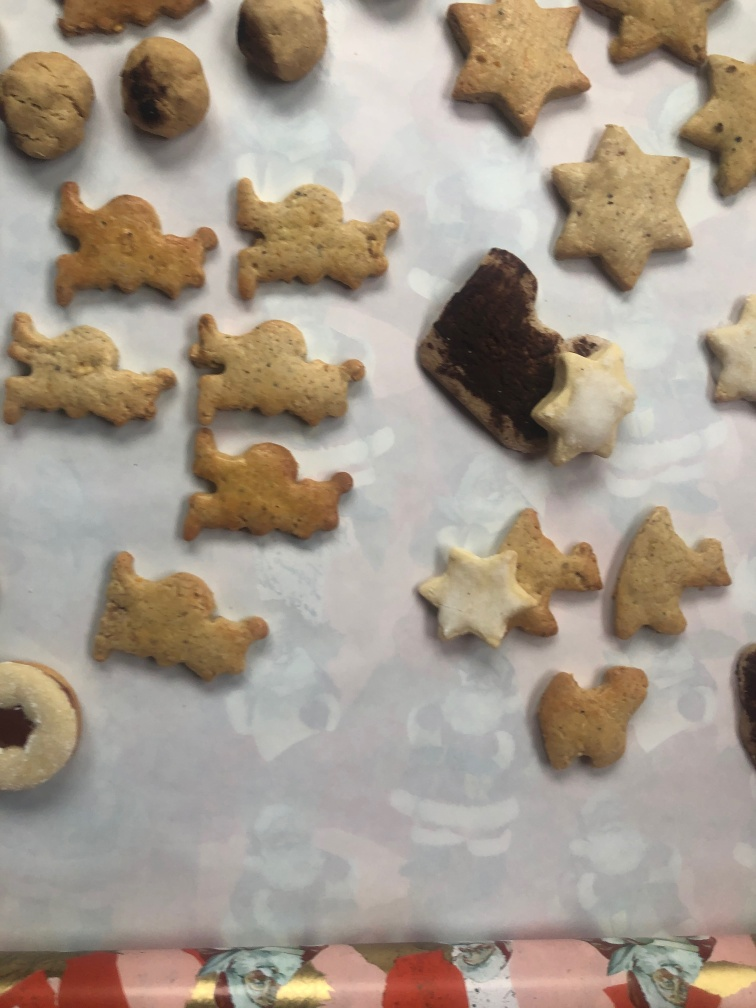christmas shortbread with jam: (1, 650, 83, 804)
lamb: (606, 500, 738, 651), (497, 501, 607, 642), (523, 662, 653, 779)
santa claus: (77, 548, 276, 694), (220, 171, 413, 314), (5, 309, 178, 450), (183, 310, 372, 438), (47, 178, 216, 316), (176, 425, 358, 553)
snowball: (4, 49, 96, 173), (119, 35, 210, 146), (232, 1, 334, 96)
star: (543, 116, 694, 303), (441, 5, 591, 146), (416, 533, 539, 655), (576, 2, 735, 85), (539, 340, 637, 466), (678, 53, 756, 205), (697, 293, 756, 425)
weird #1: (415, 239, 566, 460)
